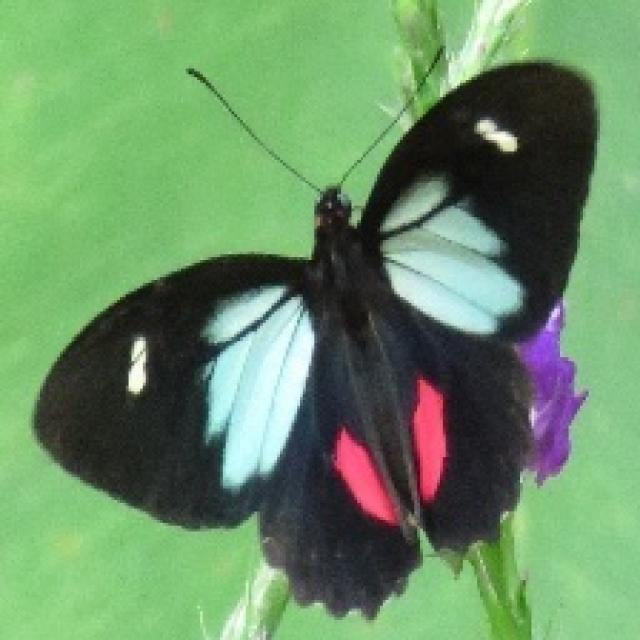butterfly: (29, 43, 597, 620)
